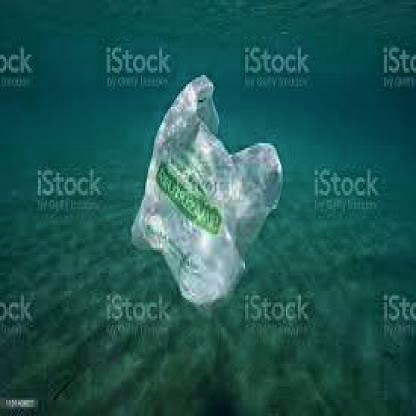pbag: (128, 73, 284, 316)
